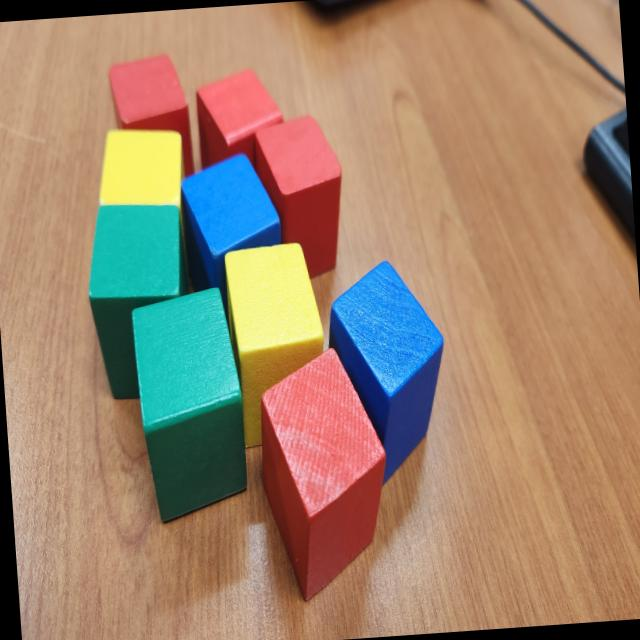blue: (324, 255, 454, 490), (178, 151, 288, 300)
green: (128, 284, 252, 524), (80, 200, 202, 402)
red: (250, 343, 394, 604), (248, 113, 350, 284), (107, 51, 195, 185), (194, 64, 288, 178)
yellow: (222, 241, 332, 450), (94, 124, 187, 210)
